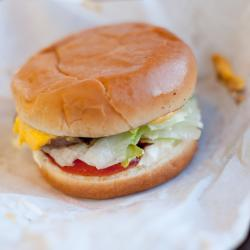burger: (14, 21, 212, 200)
